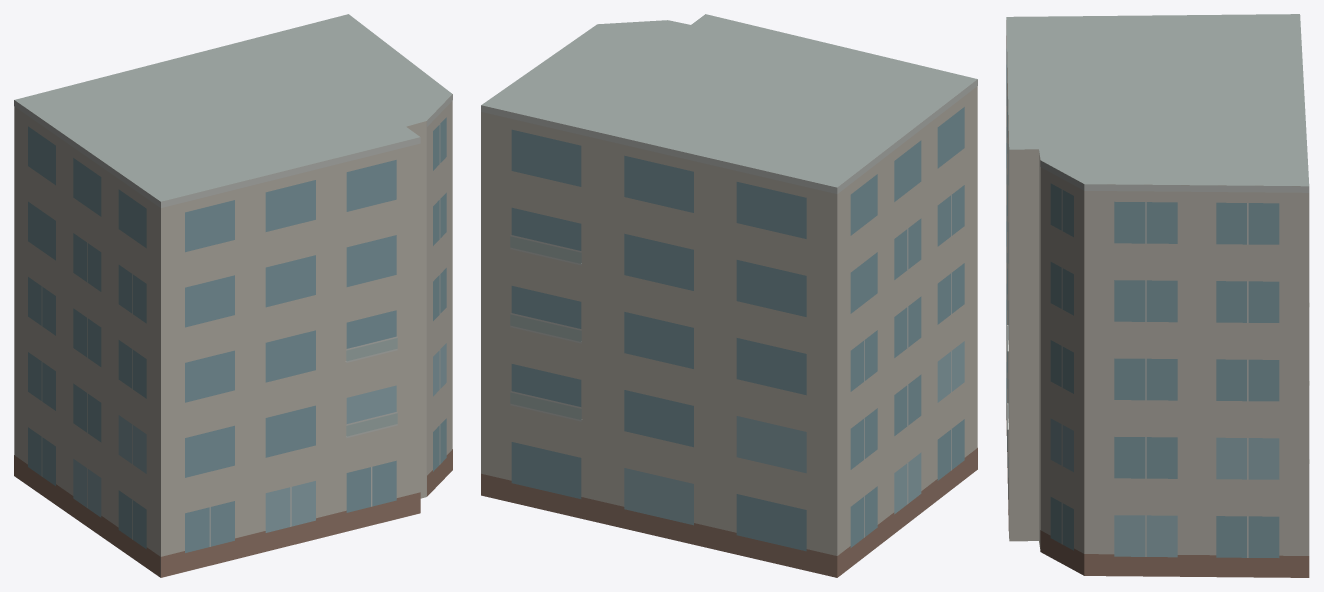
Rendered from survey-upis-32777531.glb.
The picture shows the model from 3 angles, left to right: view 1: azimuth 30°, elevation 25°; view 2: azimuth 150°, elevation 25°; view 3: azimuth 270°, elevation 25°; orthographic projection. The views are drawn at different scales.
Visible parts, largest first — view 1: survey-upis-32777531.tmp; view 2: survey-upis-32777531.tmp; view 3: survey-upis-32777531.tmp.
Boxes of the visible parts, x1,y1,x2,y2 form: survey-upis-32777531.tmp: (14,14,452,577); survey-upis-32777531.tmp: (481,14,977,577); survey-upis-32777531.tmp: (1006,14,1309,577).
Size of the model in its own units: 13.49 by 14.3 by 10.04.
